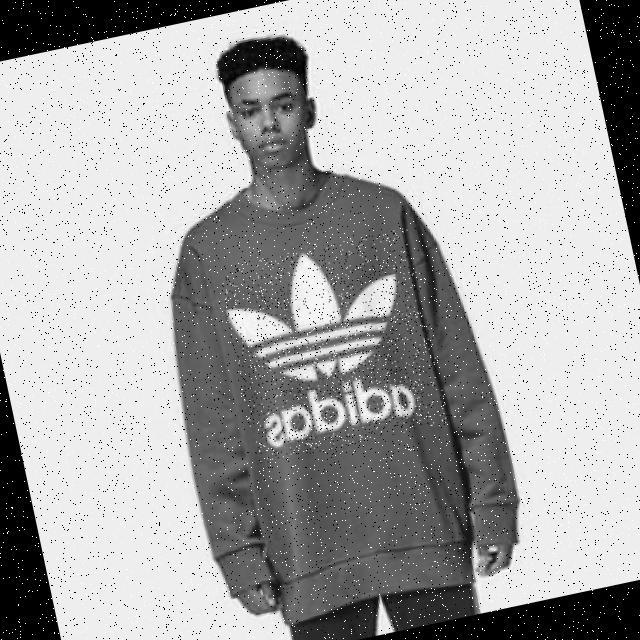Adidas: (216, 227, 450, 464)
